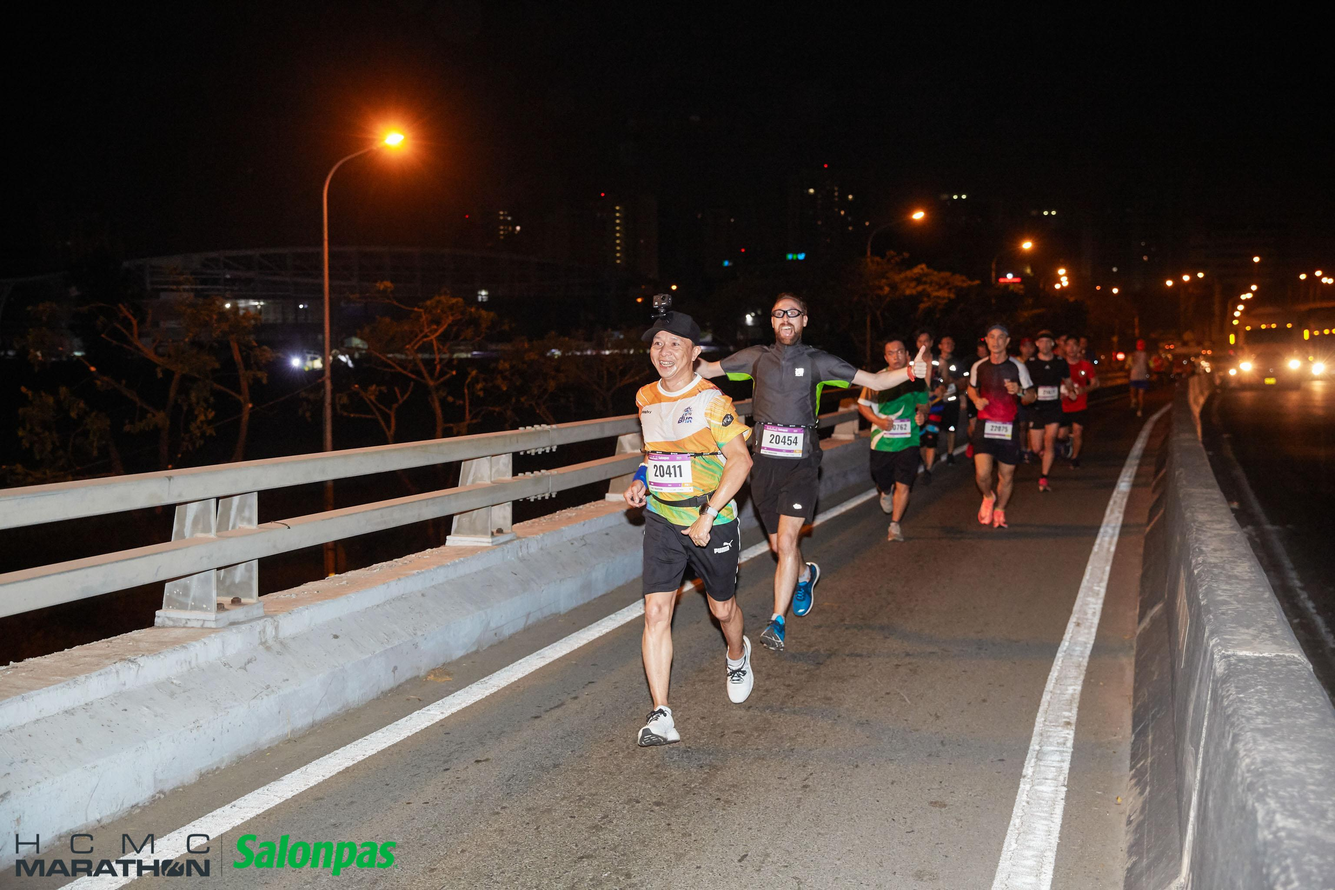bib: (644, 451, 695, 495), (759, 423, 803, 458), (984, 419, 1011, 440), (882, 419, 910, 438), (1037, 386, 1060, 400)
